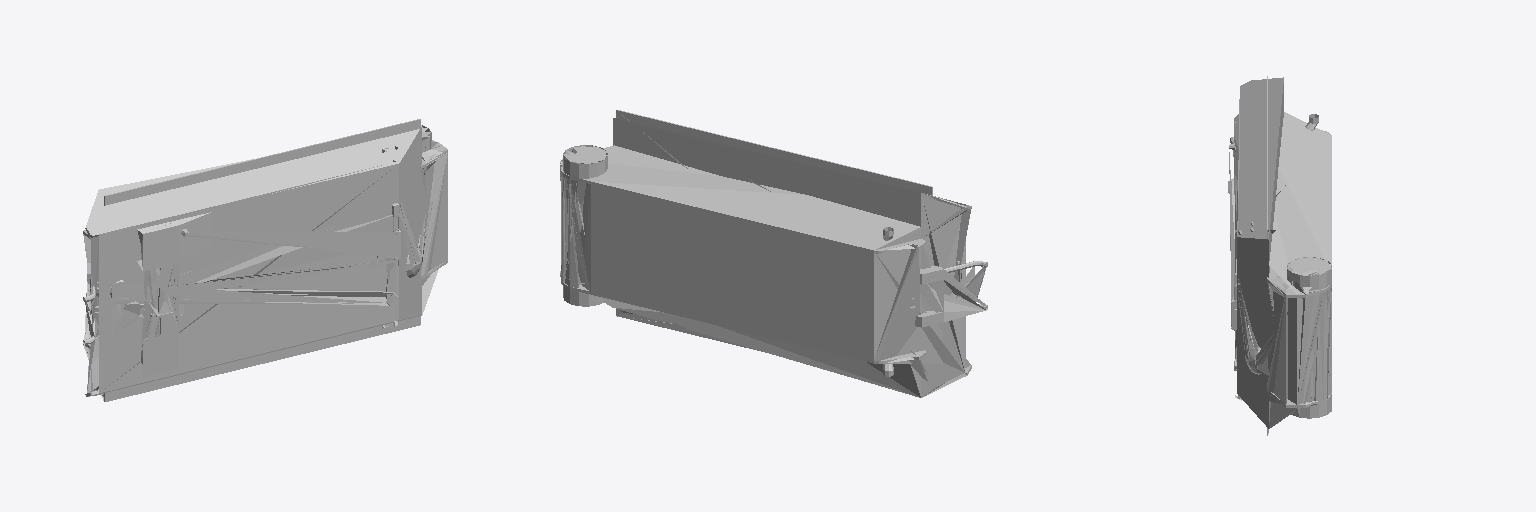
File: Body.msh.txt.obj
3 views of the same model, side by side, from view 1: azimuth 30°, elevation 25°; view 2: azimuth 150°, elevation 25°; view 3: azimuth 270°, elevation 25° (orthographic).
Bounding box in the file's own units: 6.84 × 3.45 × 1.57.